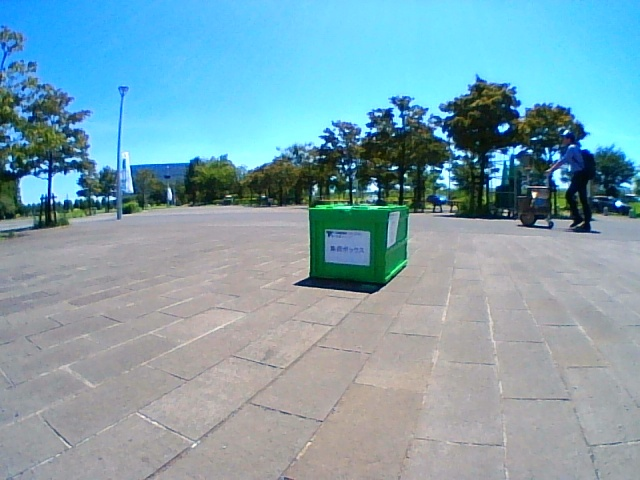green_box: (310, 204, 407, 285)
tag: (389, 212, 395, 247)
